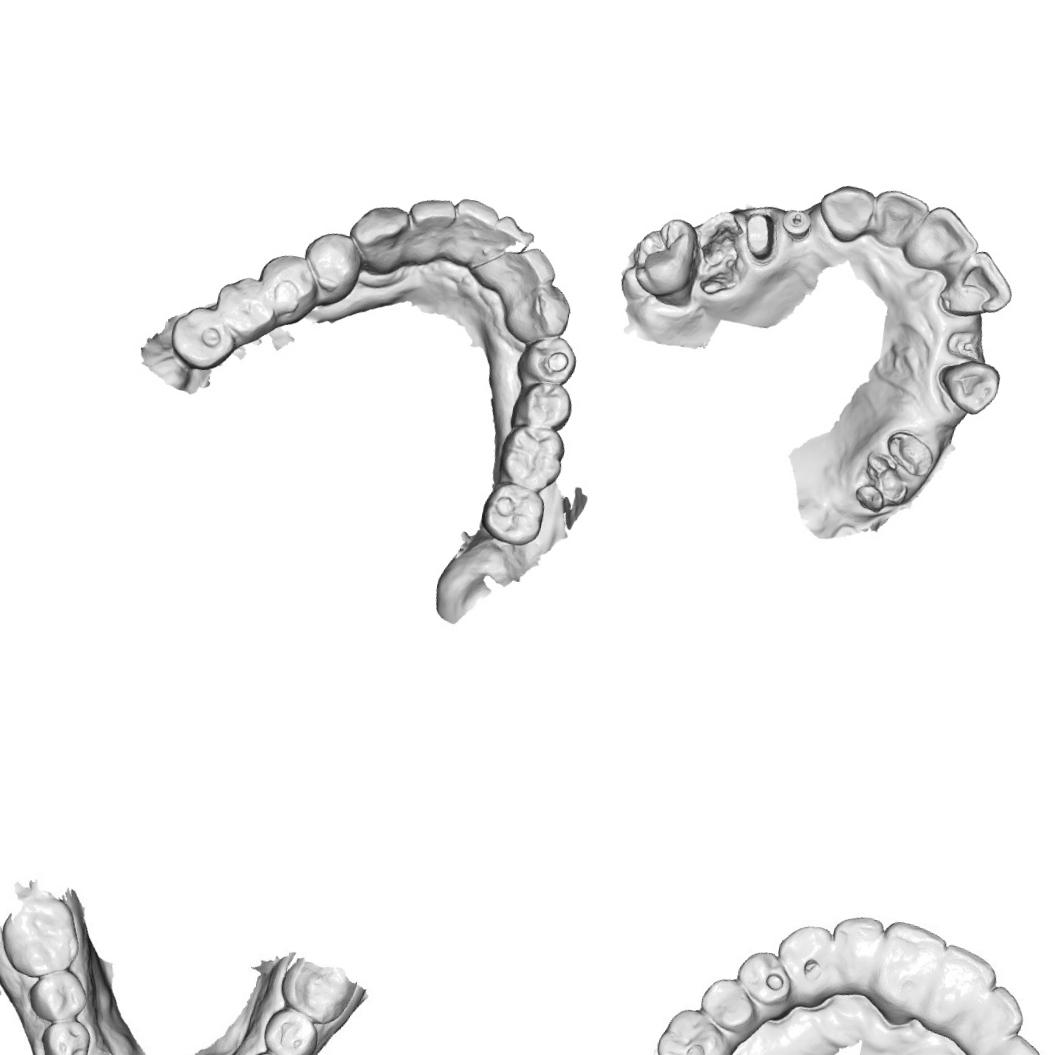canine: (768, 916, 838, 1006), (342, 198, 413, 278), (501, 278, 575, 350), (812, 178, 878, 248), (932, 353, 1003, 418), (965, 1025, 1049, 1055)
crown: (737, 206, 782, 268)
implant_minus: (776, 204, 815, 242)
incisor: (866, 915, 950, 1016), (923, 939, 1006, 1026), (934, 244, 1020, 326), (898, 199, 984, 277), (820, 910, 886, 999), (953, 978, 1028, 1055), (866, 184, 932, 252), (403, 193, 461, 252), (446, 195, 502, 254), (498, 239, 558, 291), (484, 211, 536, 268)
molar: (623, 210, 708, 310), (0, 891, 86, 986), (162, 299, 243, 375), (276, 955, 358, 1029), (208, 270, 284, 346), (493, 420, 568, 492), (476, 480, 548, 550), (645, 1000, 736, 1055)
premolar: (249, 246, 324, 330), (294, 226, 366, 313), (728, 946, 799, 1016), (514, 326, 581, 390), (26, 964, 92, 1028), (509, 374, 577, 435), (695, 972, 760, 1035), (259, 1005, 319, 1055), (32, 1013, 95, 1055)
